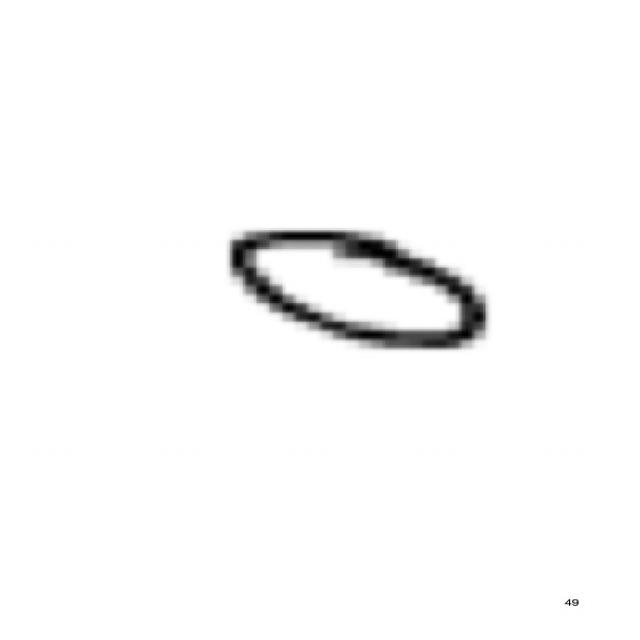5 -five-: (212, 219, 498, 357)
